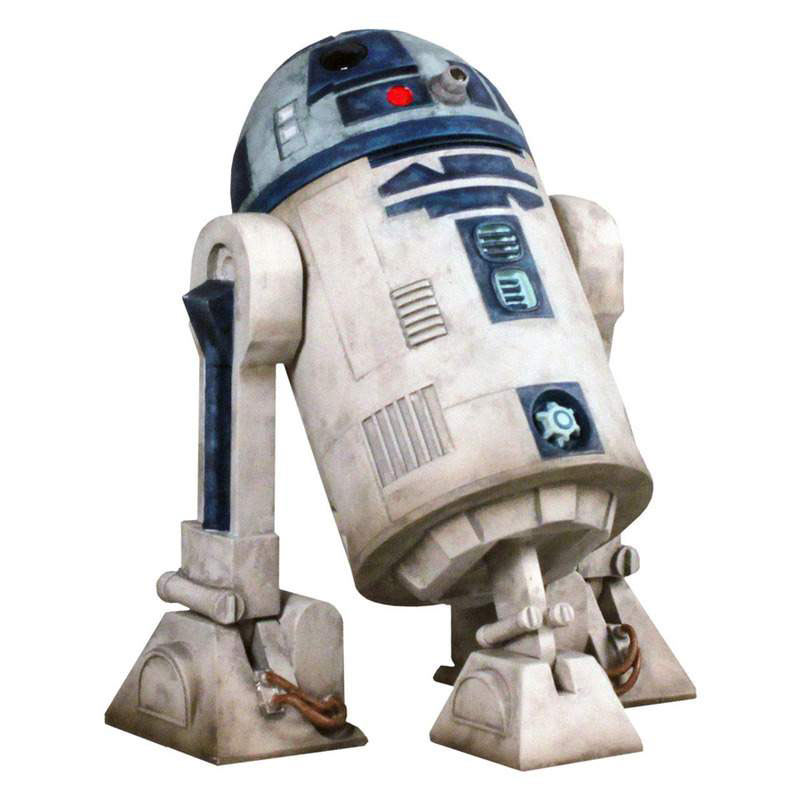r2d2: (107, 27, 698, 773)
